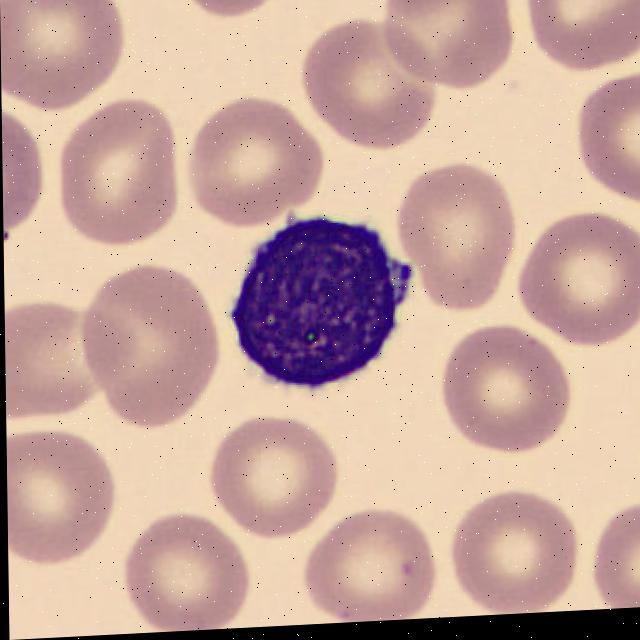lymphocyte: (224, 214, 406, 398)
rbc: (75, 265, 223, 420), (184, 93, 321, 239), (57, 97, 178, 252), (432, 325, 575, 450), (517, 204, 640, 348), (451, 491, 581, 617), (408, 159, 523, 299), (6, 423, 116, 568), (307, 25, 435, 148), (212, 413, 335, 536), (4, 292, 131, 411), (125, 521, 251, 633), (306, 512, 428, 624), (0, 0, 123, 110), (388, 0, 517, 92), (522, 0, 640, 71), (579, 72, 640, 207), (2, 101, 44, 245), (595, 499, 640, 610), (186, 0, 281, 22)
